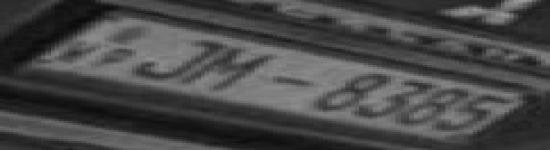-: (266, 71, 314, 91)
3: (339, 75, 440, 124)
5: (420, 89, 526, 138)
8: (381, 82, 480, 129), (302, 70, 403, 114)
J: (107, 29, 236, 88)
M: (165, 41, 298, 98)
P: (89, 46, 134, 70)
W: (39, 40, 97, 64)
